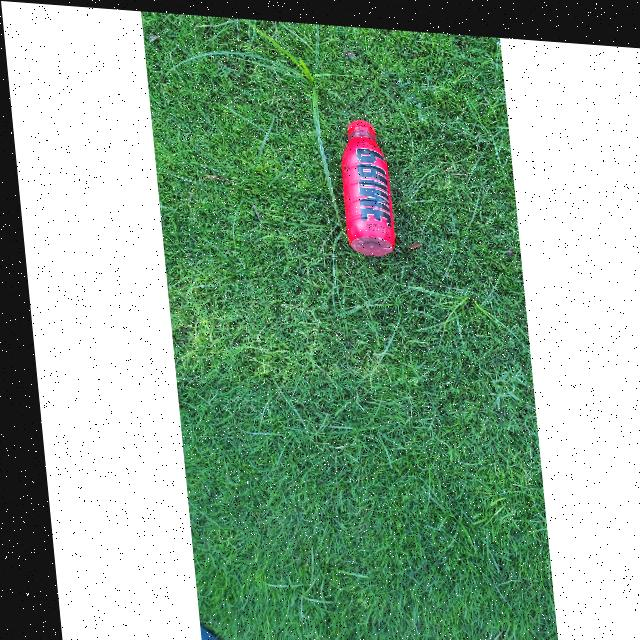Prime - Shitass: (338, 114, 396, 249)
